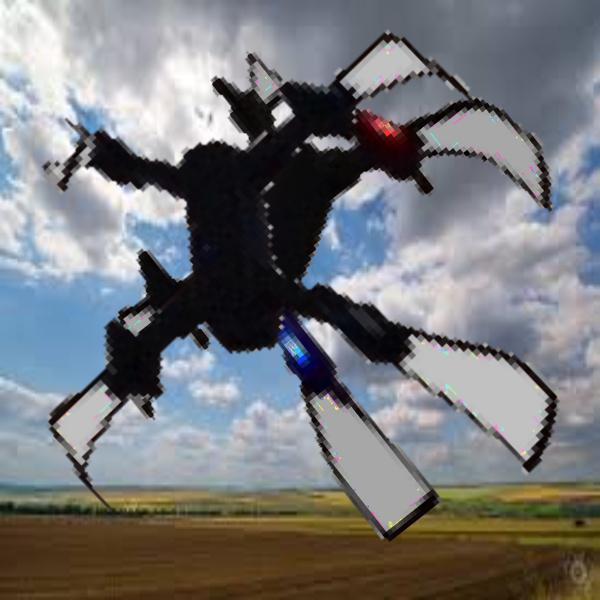drone: (83, 20, 584, 521)
